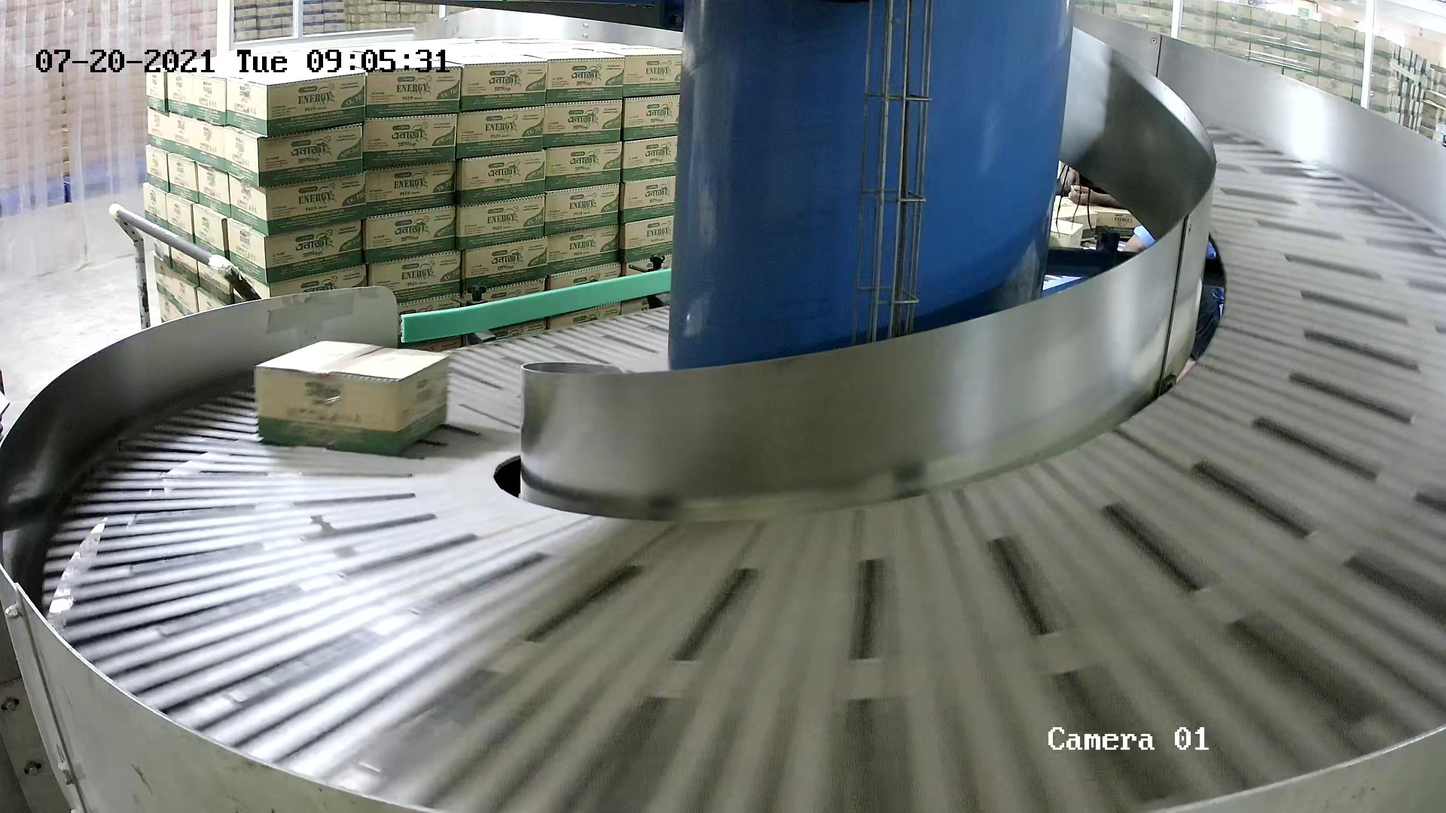Box: (252, 338, 451, 457)
